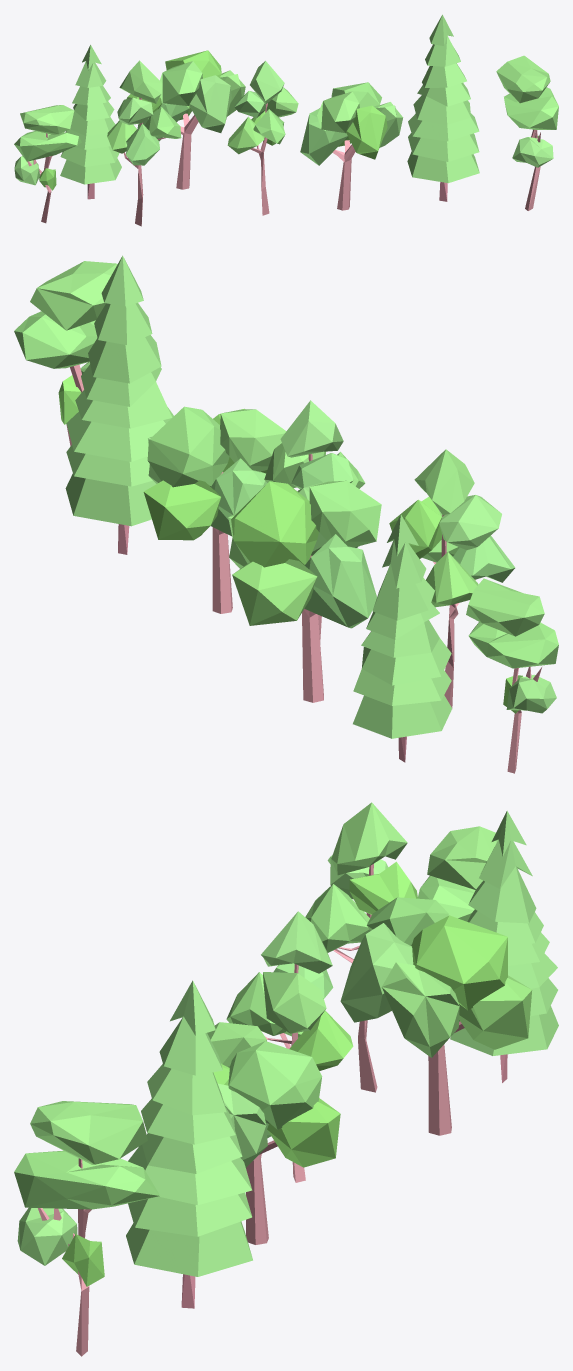
Rendered from ForestSide1.fbx.
3 views of the same model, one above another, from view 1: azimuth 30°, elevation 25°; view 2: azimuth 150°, elevation 25°; view 3: azimuth 270°, elevation 25° (orthographic). The views are drawn at different scales.
Visible parts, largest first — view 1: Forest.001; view 2: Forest.001; view 3: Forest.001.
Part boxes in pixels (x1,y1,x2,y2): Forest.001: (14, 14, 558, 226); Forest.001: (14, 255, 558, 773); Forest.001: (14, 802, 558, 1356).
Bounding box in the file's own units: 868 × 360 × 541.
